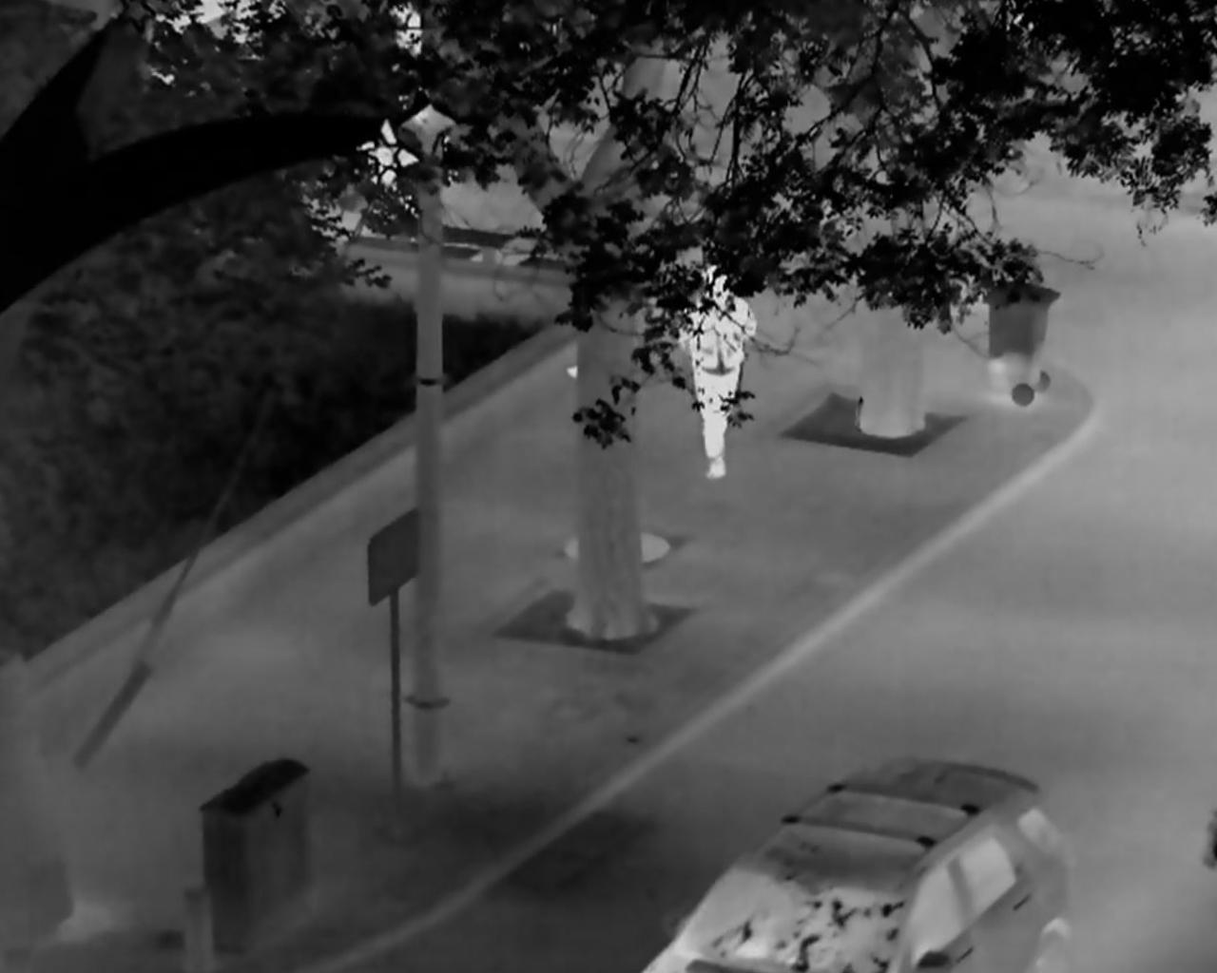person: (685, 267, 757, 478)
